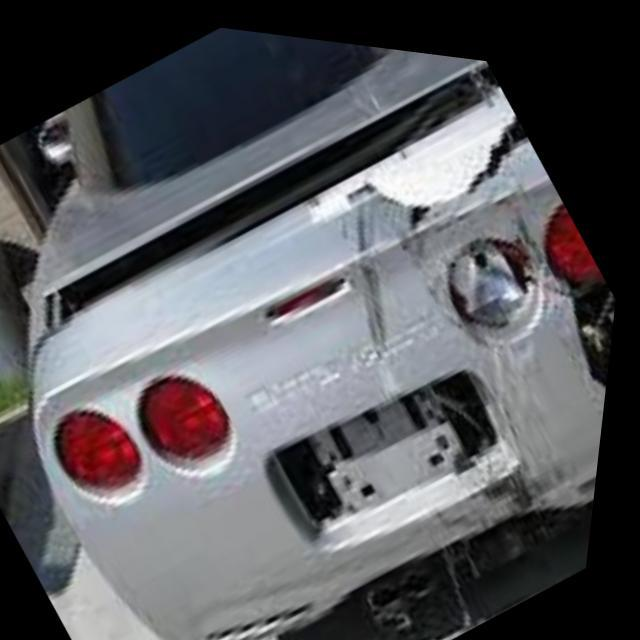crack: (321, 45, 621, 507)
